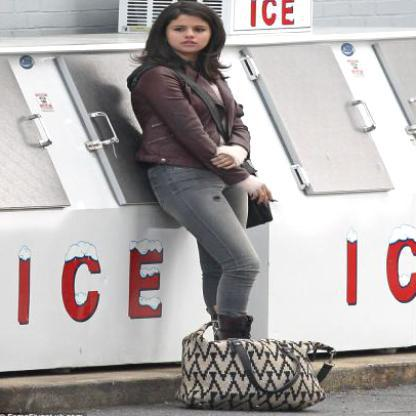person: (129, 0, 292, 344)
